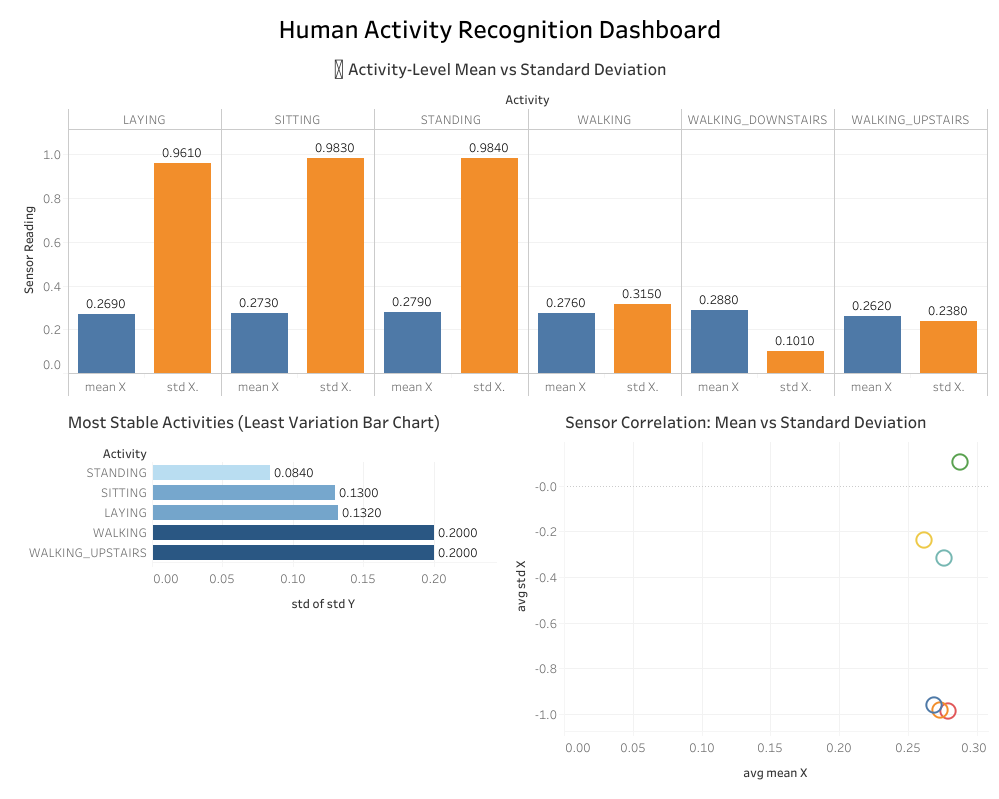

This screenshot's page, from the dashboard's own definition file:
{"tool":"tableau","page":{"name":"Dashboard 1","canvas":[1000,800],"ordinal":0},"visuals":[{"type":"text","box":[8,8,984,39]},{"type":"worksheet","title":"Sheet 1","mark":"Automatic","cols":["Activity"],"box":[8,47,984,353]},{"type":"worksheet","title":"Sheet 3","mark":"Automatic","rows":["Activity"],"cols":["std_of_std_Y"],"box":[8,400,492,392]},{"type":"worksheet","title":"Sheet 4","mark":"Automatic","rows":["avg_std_X"],"cols":["avg_mean_X"],"box":[500,400,492,392]}]}

Visuals, with their boxes in screenshot pixels (x1, y1, x2, y2), scaled from the page's 1000x800 canvas onto the 999x799 screenshot:
text: {"x1": 8, "y1": 8, "x2": 991, "y2": 47}
"Sheet 1" worksheet: {"x1": 8, "y1": 47, "x2": 991, "y2": 400}
"Sheet 3" worksheet: {"x1": 8, "y1": 400, "x2": 500, "y2": 791}
"Sheet 4" worksheet: {"x1": 500, "y1": 400, "x2": 991, "y2": 791}
